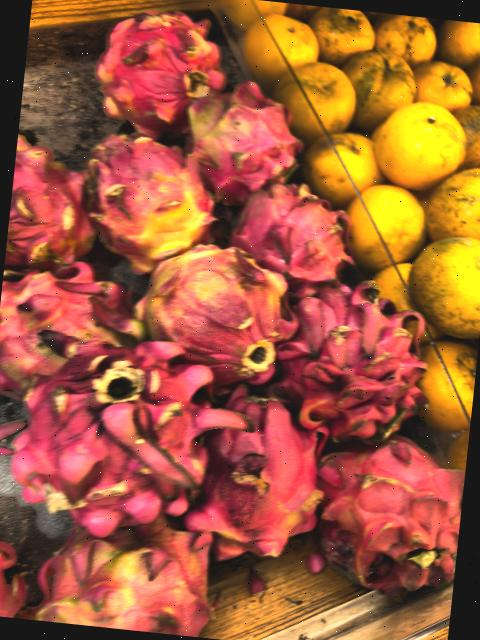buah-naga-belum-matang: (33, 509, 225, 639), (140, 239, 301, 379), (0, 255, 147, 388), (78, 124, 218, 254), (182, 86, 306, 189)
buah-naga-matang: (3, 328, 233, 532), (274, 270, 436, 440), (183, 380, 327, 569), (304, 430, 468, 585), (88, 5, 230, 127), (224, 178, 358, 286), (5, 133, 105, 274)
